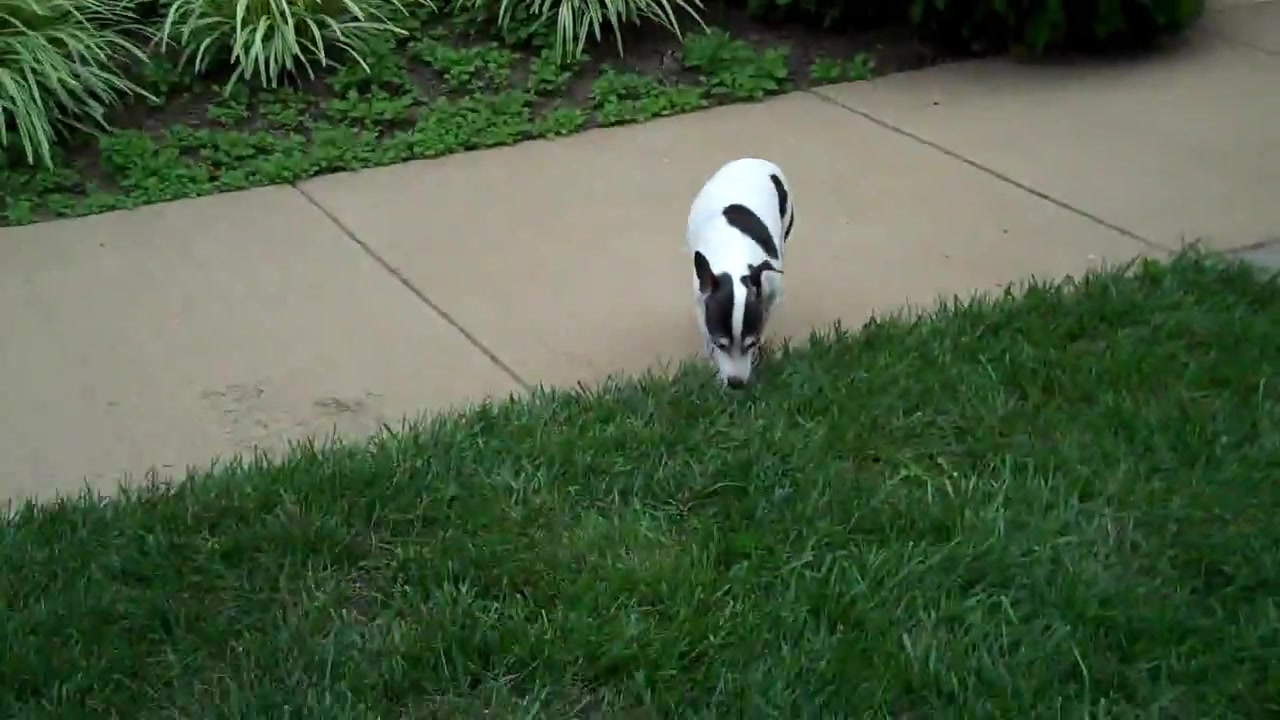dog: (684, 156, 795, 390)
